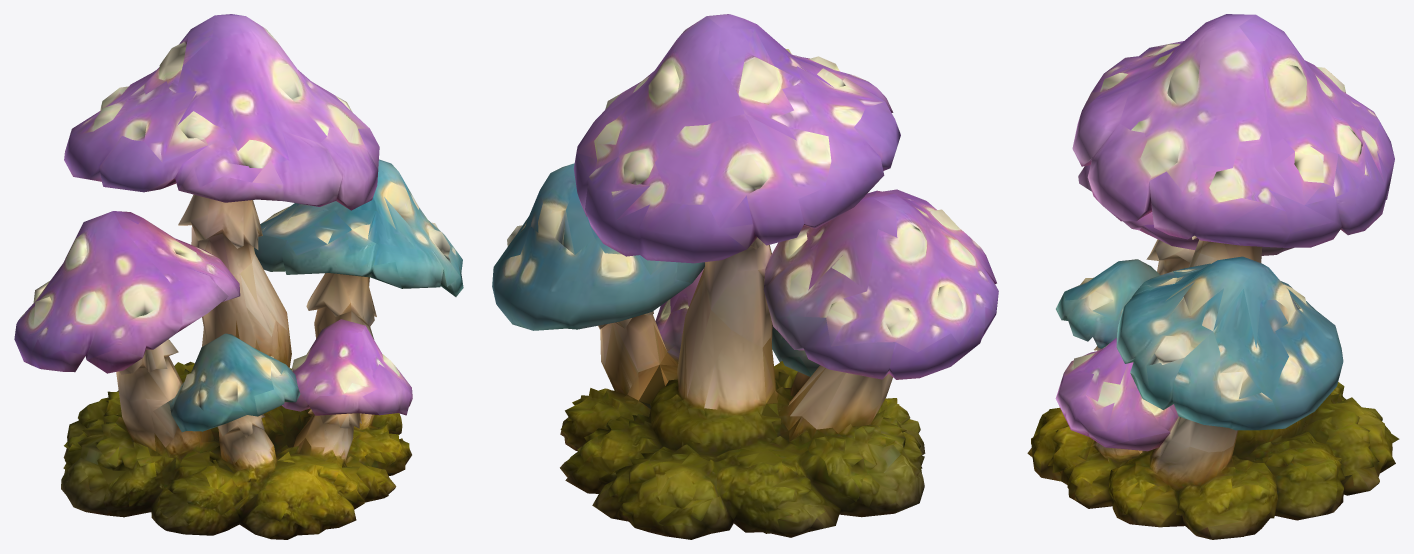
The model's file is glow_mushrooms.glb.
3 renders of one model, left to right at view 1: azimuth 30°, elevation 25°; view 2: azimuth 150°, elevation 25°; view 3: azimuth 270°, elevation 25°, orthographic. The views are drawn at different scales.
Visible parts, largest first — view 1: tripo_node_5b5e8e89-0884-4b2a-bbb6-5ba91a51e964; view 2: tripo_node_5b5e8e89-0884-4b2a-bbb6-5ba91a51e964; view 3: tripo_node_5b5e8e89-0884-4b2a-bbb6-5ba91a51e964.
Part boxes in pixels (<box>): tripo_node_5b5e8e89-0884-4b2a-bbb6-5ba91a51e964: <box>14,14,463,539</box>; tripo_node_5b5e8e89-0884-4b2a-bbb6-5ba91a51e964: <box>492,14,998,539</box>; tripo_node_5b5e8e89-0884-4b2a-bbb6-5ba91a51e964: <box>1027,14,1399,539</box>.
Bounding box in the file's own units: 0.2925 × 0.28 × 0.2116.
1 material, 1 textured.
